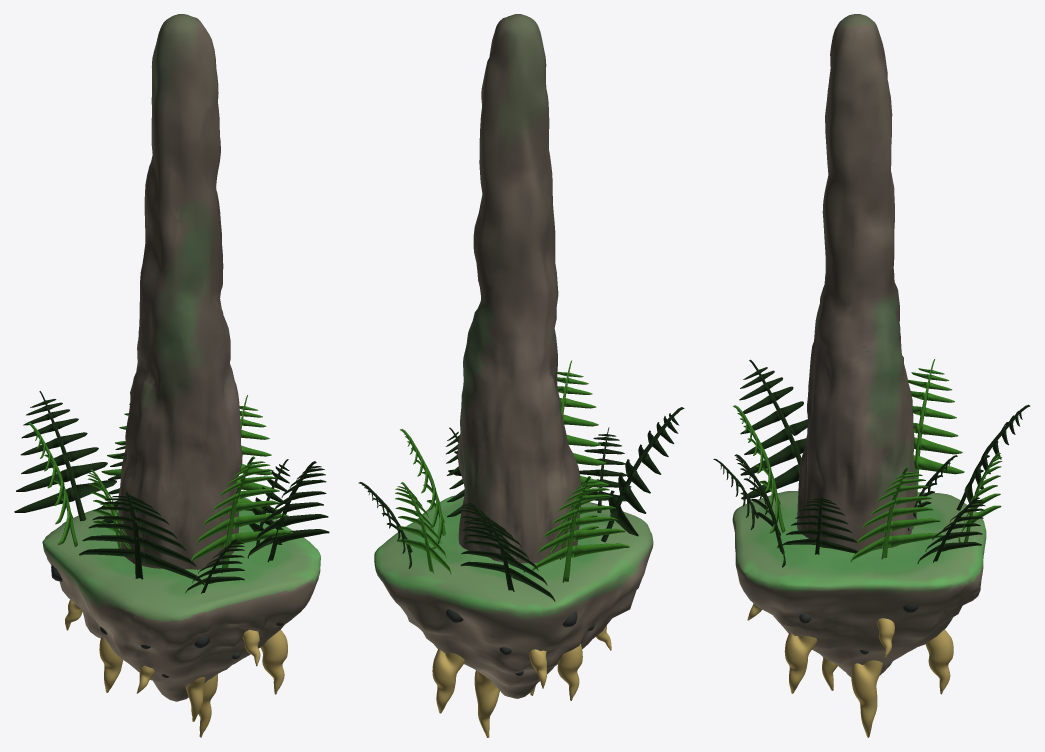
The model's file is morganucodonplynth.obj.
3 renders of one model, left to right at view 1: azimuth 30°, elevation 25°; view 2: azimuth 150°, elevation 25°; view 3: azimuth 270°, elevation 25°, orthographic. The views are drawn at different scales.
Parts seen in each view (by area): view 1: Cylinder, Cube, Plane.001_Plane.018, Plane.011_Plane.028, Cylinder.001; view 2: Cylinder, Cube, Plane.011_Plane.028, Plane.001_Plane.018, Cylinder.001; view 3: Cylinder, Cube, Plane.001_Plane.018, Plane.011_Plane.028, Cylinder.001.
Boxes of the visible parts, <box> form: Cylinder: <box>118,14,242,569</box>; Cube: <box>42,497,320,701</box>; Plane.001_Plane.018: <box>14,391,329,593</box>; Plane.011_Plane.028: <box>27,395,292,573</box>; Cylinder.001: <box>65,599,287,737</box>; Cylinder: <box>457,14,581,563</box>; Cube: <box>374,495,653,698</box>; Plane.011_Plane.028: <box>395,360,629,582</box>; Plane.001_Plane.018: <box>358,407,684,601</box>; Cylinder.001: <box>432,625,611,737</box>; Cylinder: <box>797,14,917,551</box>; Cube: <box>732,491,986,677</box>; Plane.001_Plane.018: <box>713,359,1030,567</box>; Plane.011_Plane.028: <box>733,359,1002,561</box>; Cylinder.001: <box>747,604,953,737</box>.
Bounding box in the file's own units: 2.33 × 7.14 × 2.89.
Materials: 6 (2 with a texture image).
